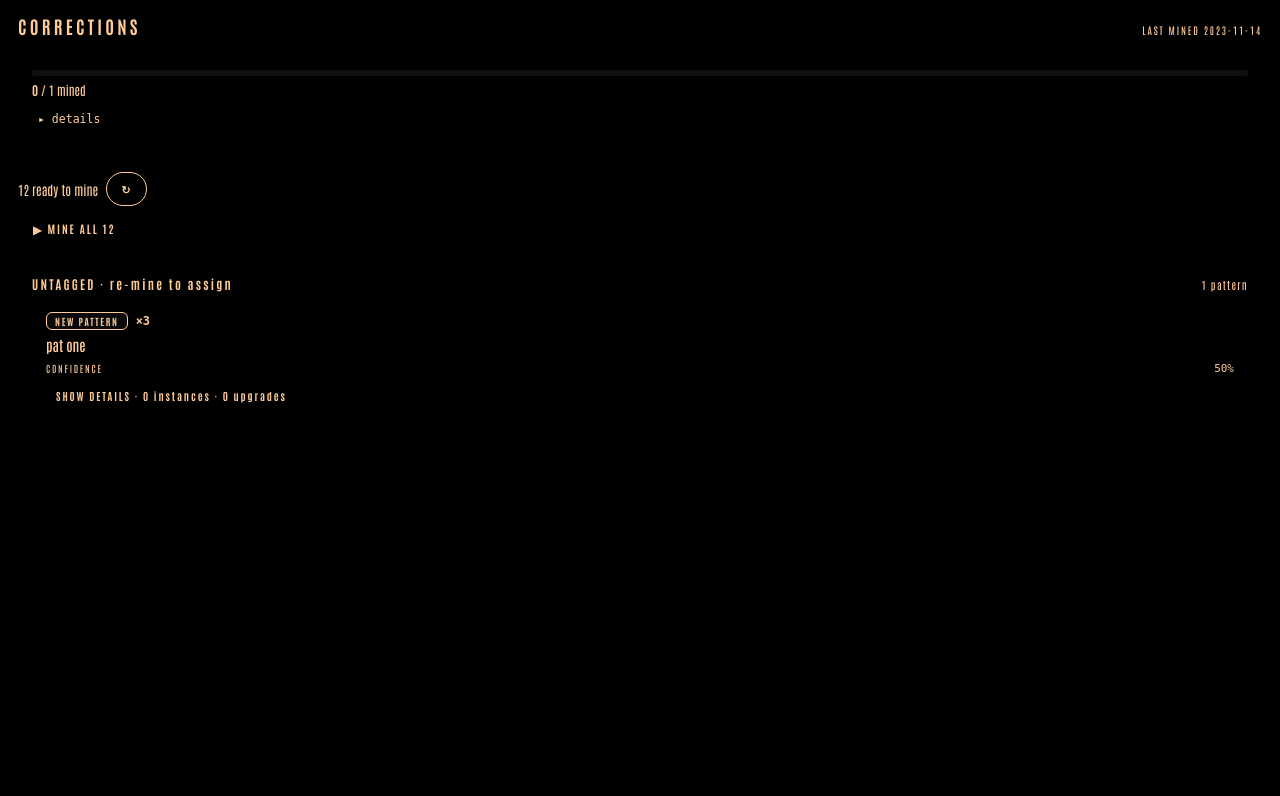
CorrectionsPanel › pipeline-stage markers › marks LLM MINE as done when patterns exist even if classified count is 0
Click the button with aria-label "show mining details": (73, 119) [32, 108, 1248, 130]
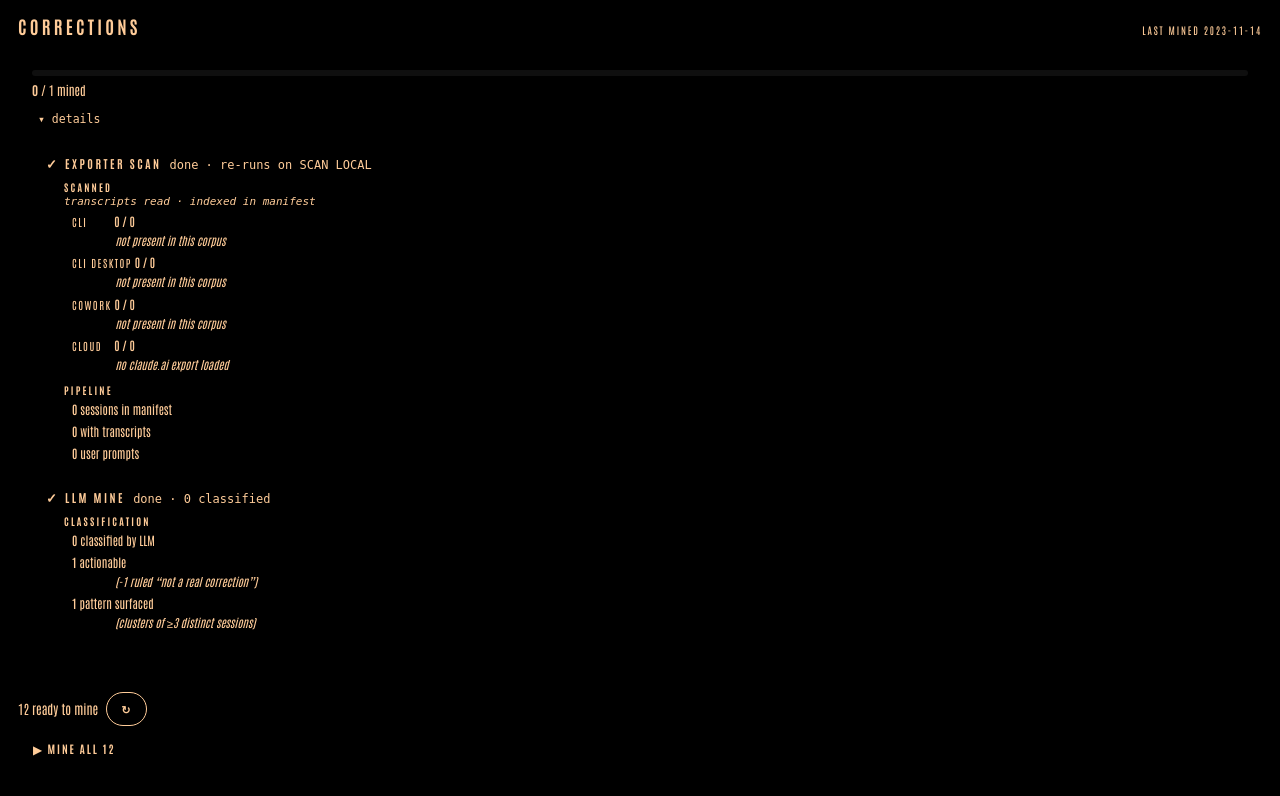
Result: the element named "LLM MINE stage — done" is shown at [46, 488, 270, 630]
